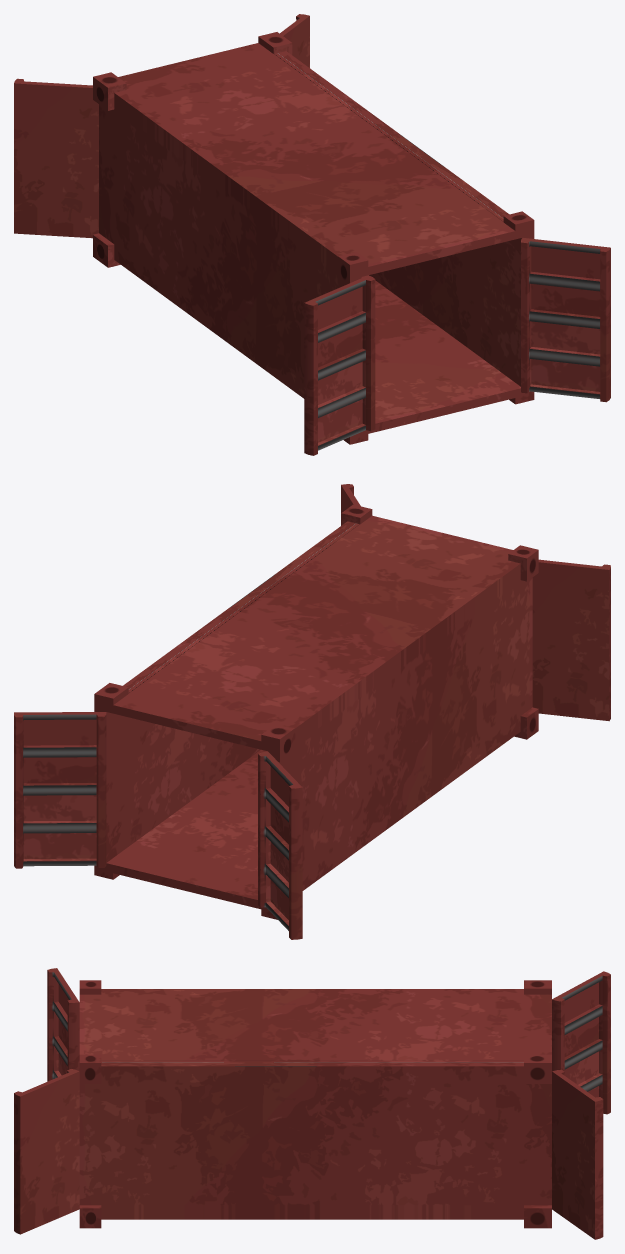
The model's file is container.fbx.
3 renders of one model, top to bottom at view 1: azimuth 30°, elevation 25°; view 2: azimuth 150°, elevation 25°; view 3: azimuth 270°, elevation 25°, orthographic. The views are drawn at different scales.
Parts seen in each view (by area): view 1: pCube10; view 2: pCube10; view 3: pCube10.
Boxes of the visible parts, x1,y1,x2,y2 form: pCube10: [14, 14, 610, 455]; pCube10: [14, 484, 610, 939]; pCube10: [14, 968, 610, 1239].
Size of the model in its own units: 490 by 282 by 923.
Materials: 1 (1 with a texture image).
